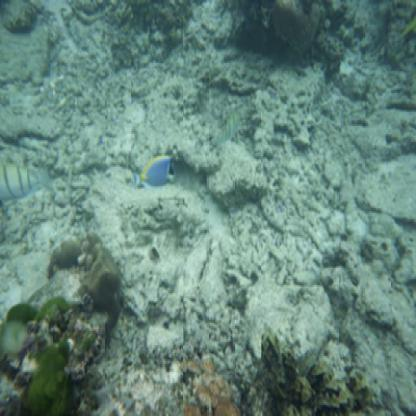Bio: (127, 151, 178, 189), (210, 112, 242, 146)
